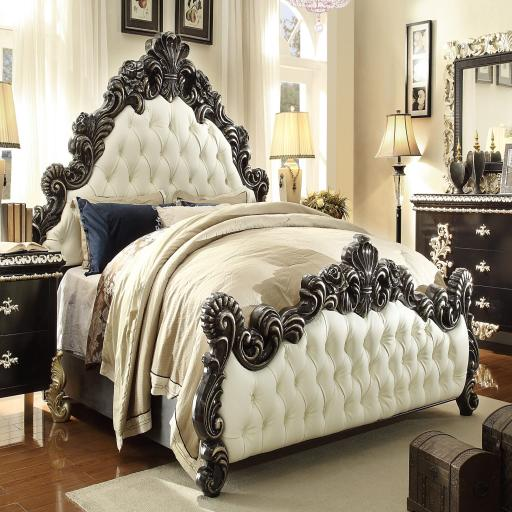bed: (32, 30, 479, 498)
